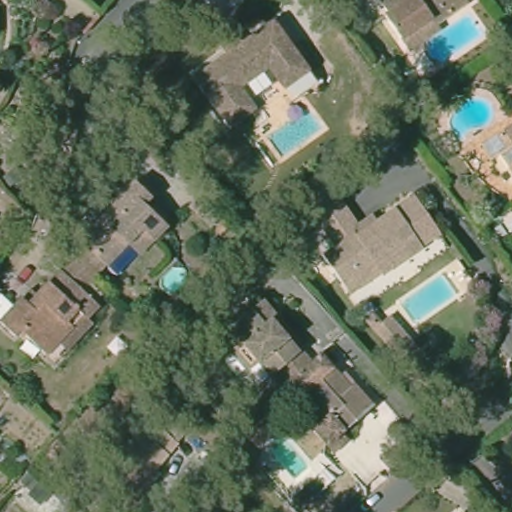pool: (257, 107, 328, 166), (394, 270, 463, 327), (414, 13, 486, 67), (442, 94, 498, 137), (257, 435, 310, 475), (153, 261, 196, 298)
